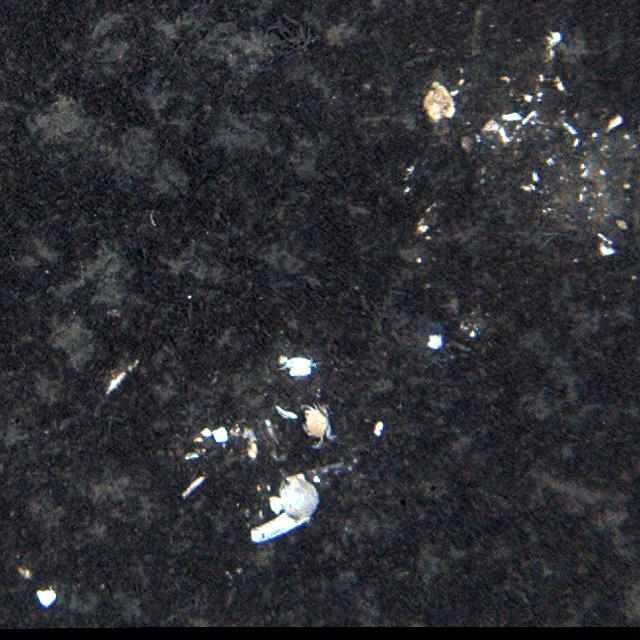crab: (300, 402, 339, 448)
